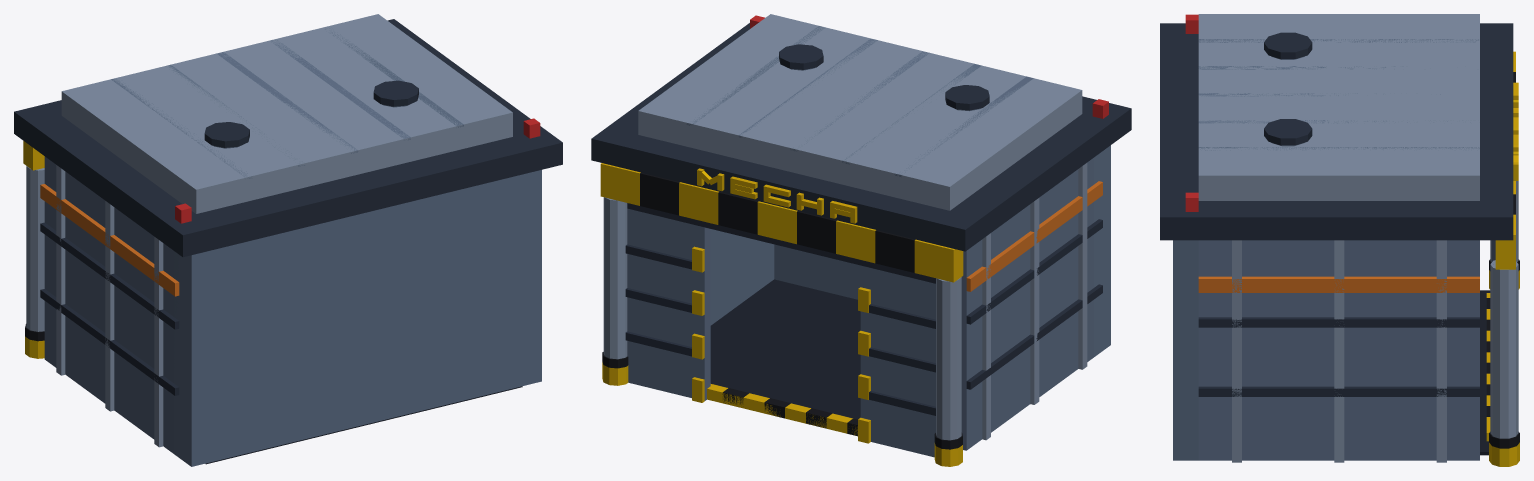
Rendered from Decor_MechaHangar_Hangar.fbx.
The picture shows the model from 3 angles, left to right: view 1: azimuth 30°, elevation 25°; view 2: azimuth 150°, elevation 25°; view 3: azimuth 270°, elevation 25°; orthographic projection. The views are drawn at different scales.
Parts seen in each view (by area): view 1: Hangar_Body; view 2: Hangar_Body; view 3: Hangar_Body.
Boxes of the visible parts, x1,y1,x2,y2 form: Hangar_Body: (14, 14, 562, 466); Hangar_Body: (591, 14, 1131, 466); Hangar_Body: (1160, 14, 1519, 466).
Bounding box in the file's own units: 36 × 25 × 28.2.
